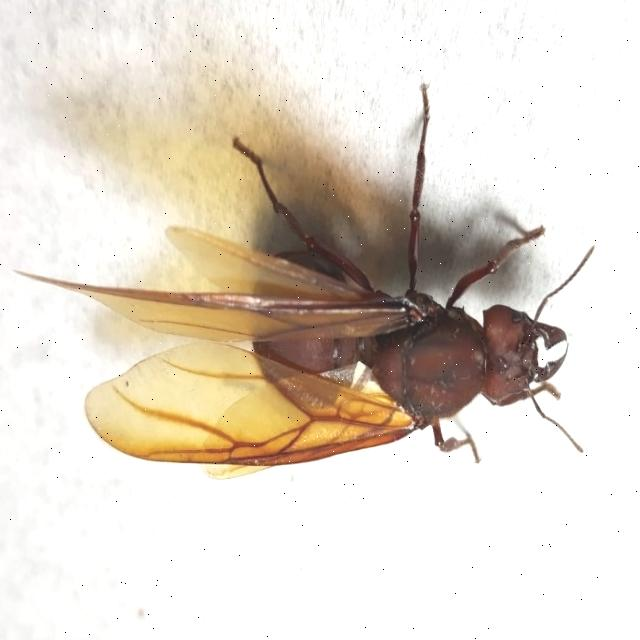Alive-Female-Alate: (12, 82, 596, 480)
